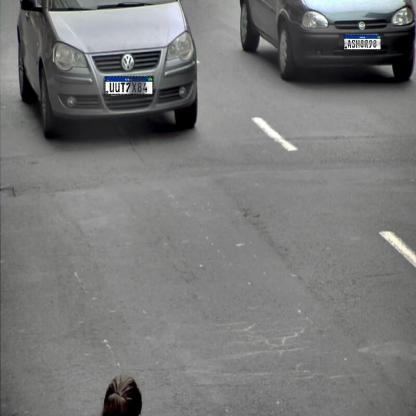PlacaM: (104, 76, 154, 95), (344, 35, 381, 50)
